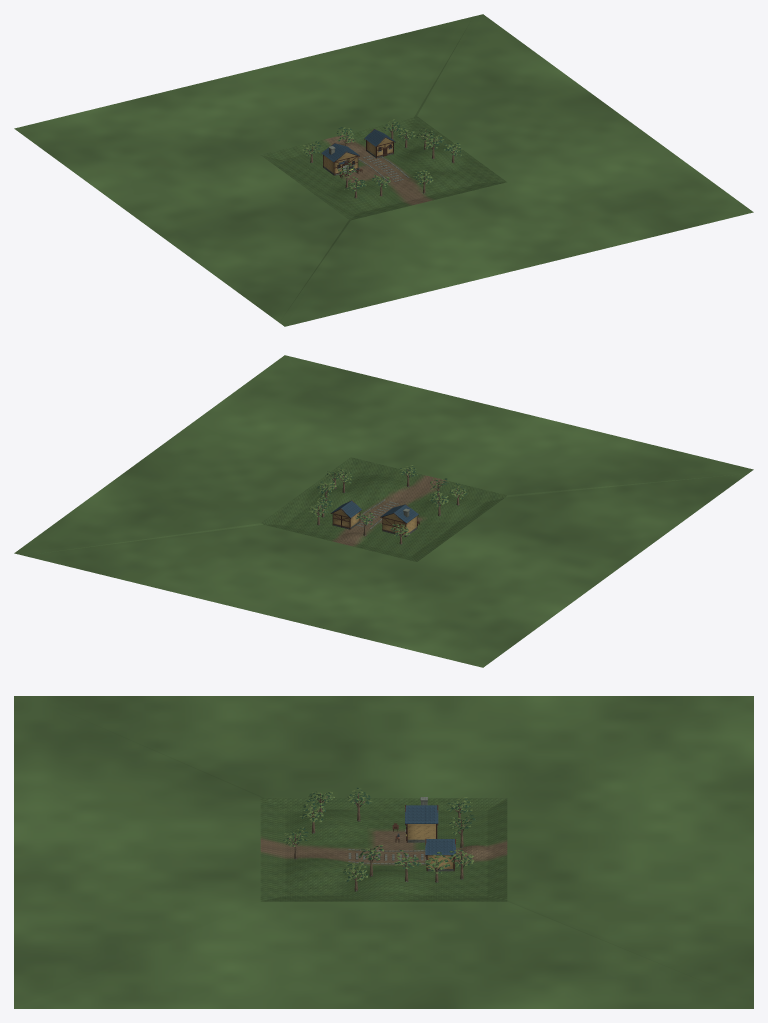
The model's file is stoneford-reference-v1.glb.
3 views of the same model, one above another, from view 1: azimuth 30°, elevation 25°; view 2: azimuth 150°, elevation 25°; view 3: azimuth 270°, elevation 25° (orthographic). The views are drawn at different scales.
Visible parts, largest first — view 1: GB_STONEFORD_STREET, GB_STONEFORD_FORGE_CUTAWAY; view 2: GB_STONEFORD_STREET, GB_STONEFORD_FORGE_CUTAWAY; view 3: GB_STONEFORD_STREET, GB_STONEFORD_FORGE_CUTAWAY.
Boxes of the visible parts, x1,y1,x2,y2 form: GB_STONEFORD_STREET: (14, 14, 753, 326); GB_STONEFORD_FORGE_CUTAWAY: (321, 143, 359, 175); GB_STONEFORD_STREET: (14, 355, 753, 667); GB_STONEFORD_FORGE_CUTAWAY: (380, 504, 418, 536); GB_STONEFORD_STREET: (14, 696, 753, 1008); GB_STONEFORD_FORGE_CUTAWAY: (405, 797, 438, 842).
Bounding box in the file's own units: 147 × 8.54 × 147.
2 materials, 1 textured.
